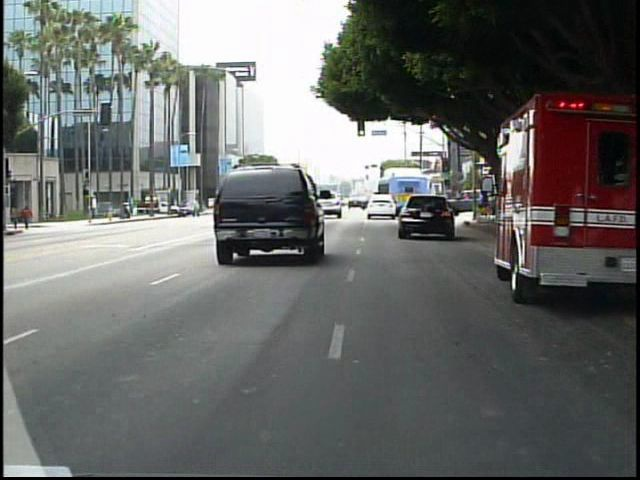person: (24, 202, 36, 233), (10, 202, 23, 229)
